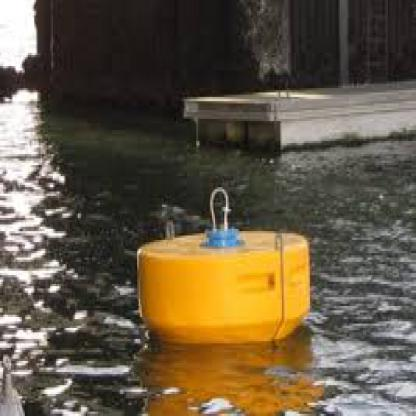buoy: (129, 178, 318, 357)
